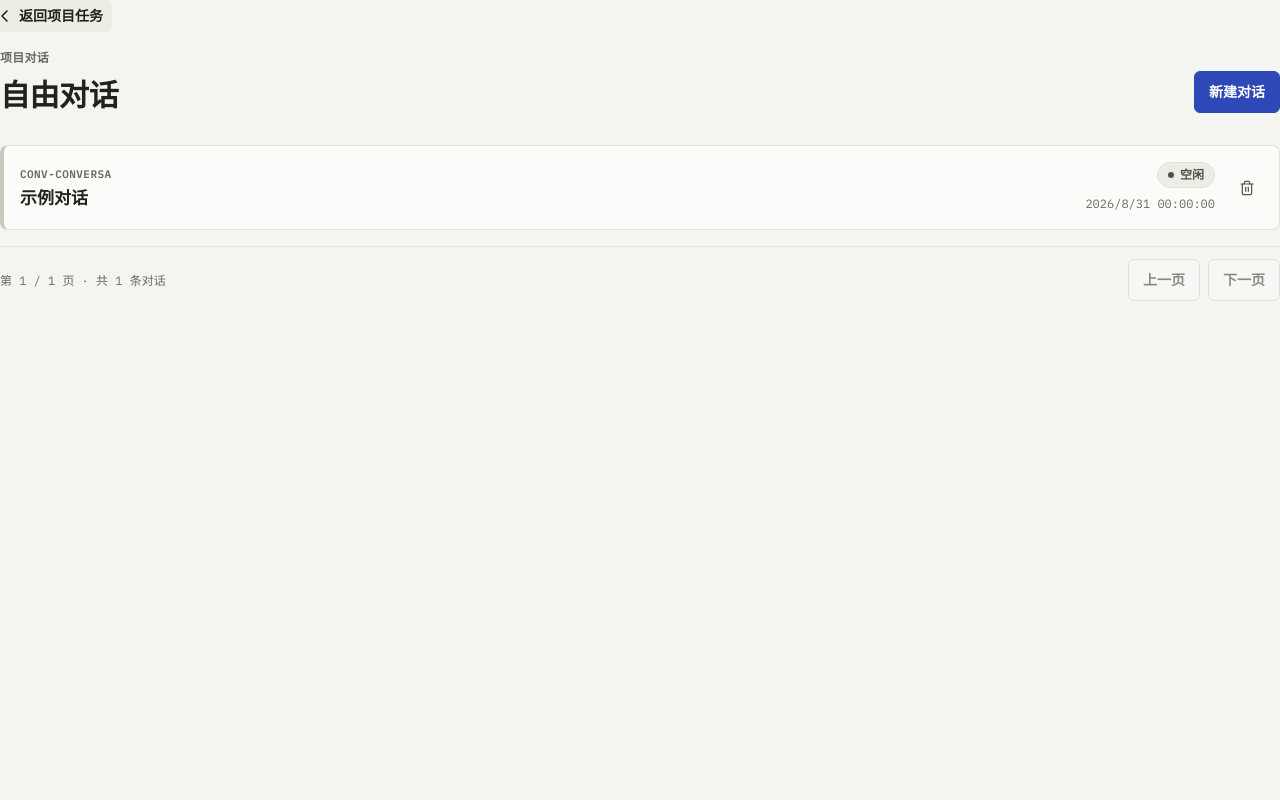
ConversationListPage delete › cancels without deleting
Expected: the heading "示例对话" is shown, [20,186,88,208]
Click the button named "删除对话 示例对话" at (1247, 188), box [1231,172,1263,204]
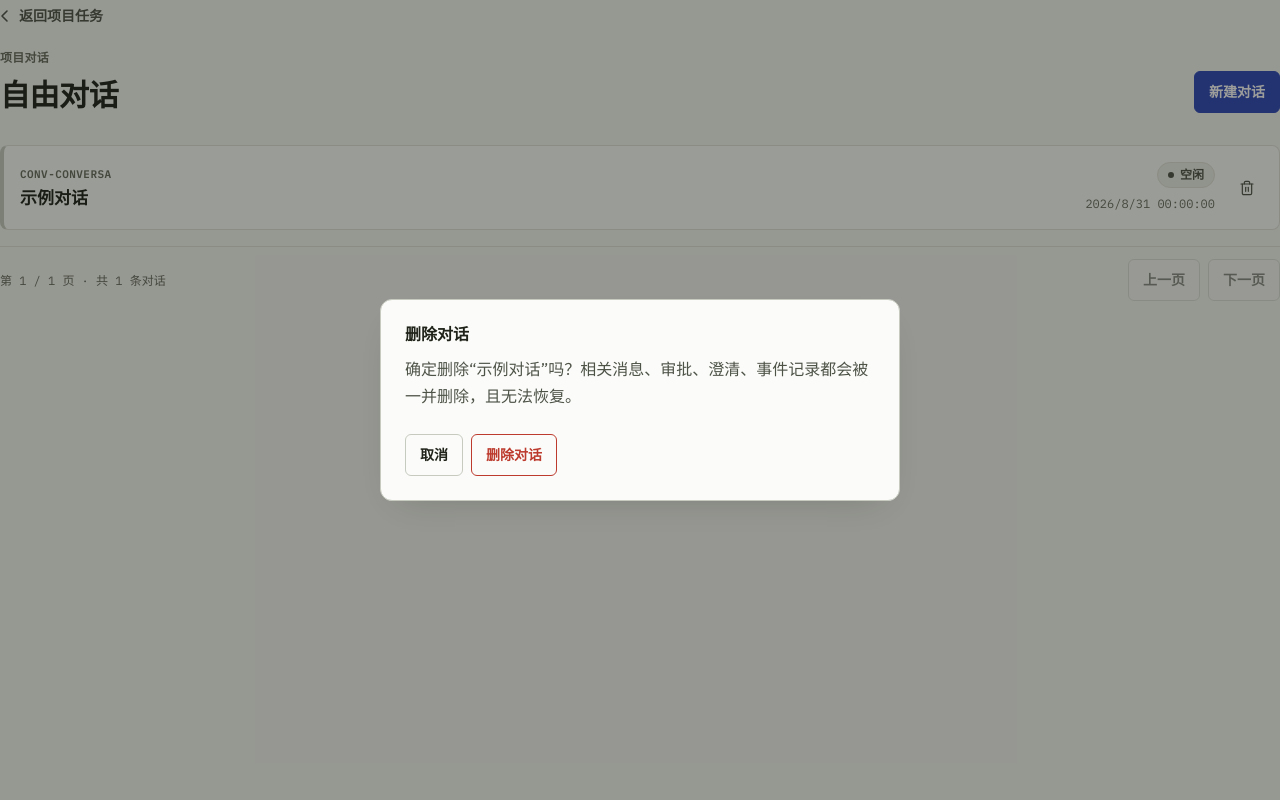
Click the button "取消" at (434, 455), box [405,434,463,476]
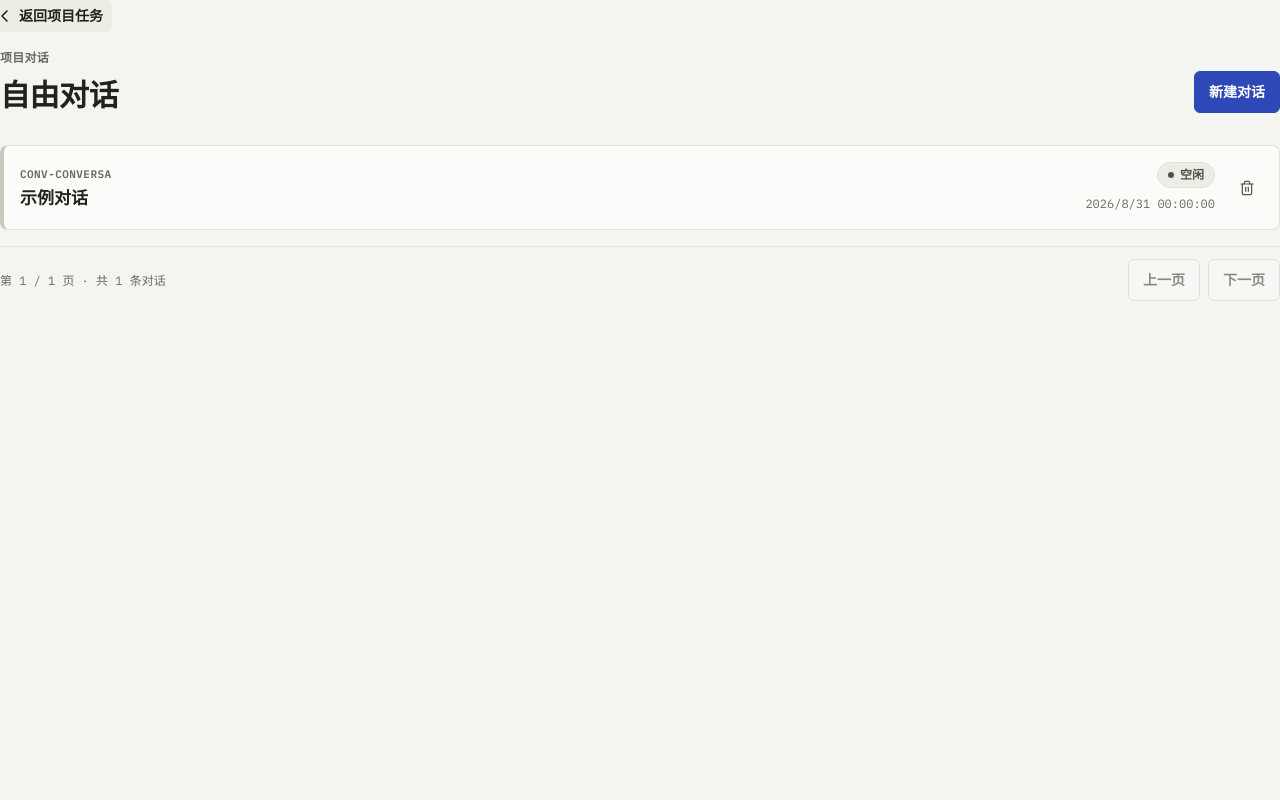
Expected: the dialog is gone
